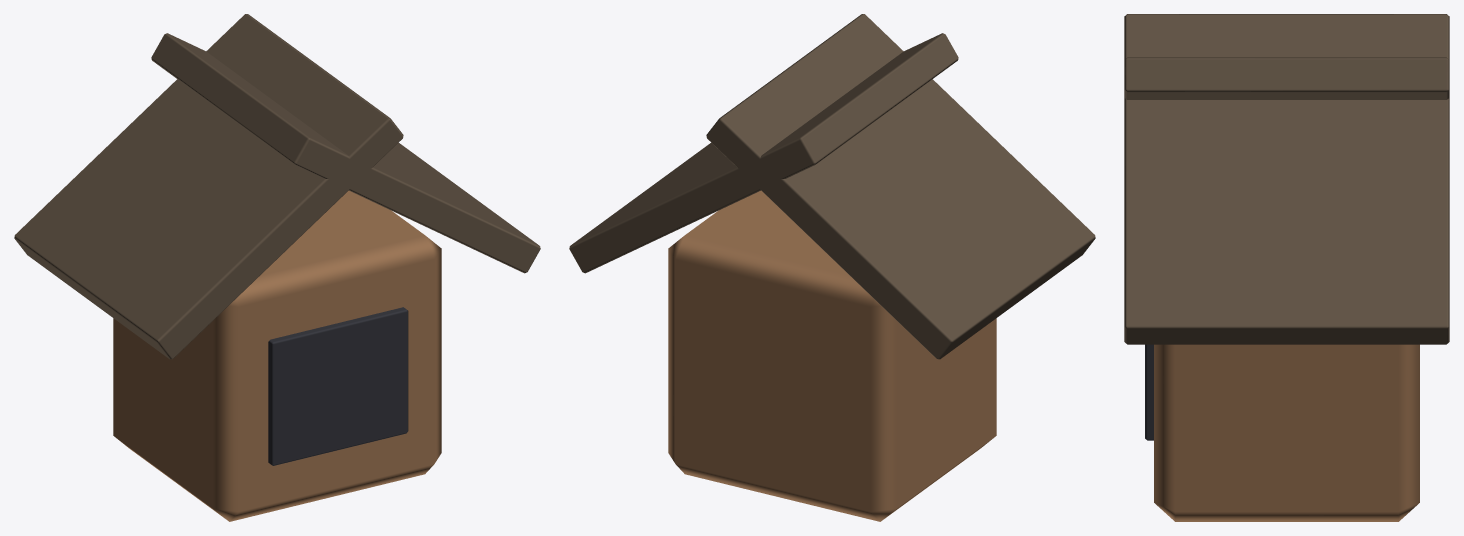
File: ghost-town-roof-dormer.58687e66.glb
3 renders of one model, left to right at view 1: azimuth 30°, elevation 25°; view 2: azimuth 150°, elevation 25°; view 3: azimuth 270°, elevation 25°, orthographic. The views are drawn at different scales.
Parts seen in each view (by area): view 1: body; view 2: body; view 3: body.
Part boxes in pixels (left/top/right/bottom): body: left=14, top=14, right=540, bottom=521; body: left=569, top=14, right=1095, bottom=521; body: left=1124, top=14, right=1449, bottom=521.
Bounding box in the file's own units: 0.8402 × 0.8071 × 0.55.
